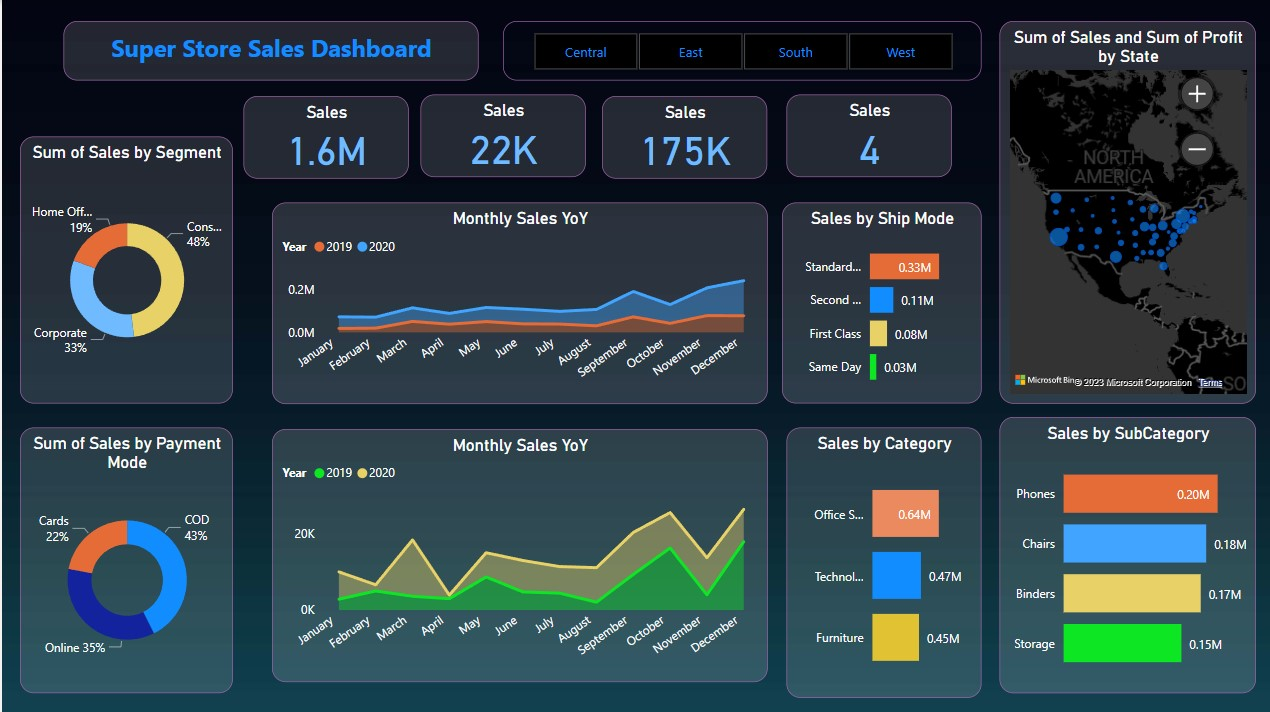

The page's visual inventory and layout, read from the dashboard file:
{"tool":"powerbi","page":{"name":"Page 1","canvas":[1280,720],"ordinal":0},"visuals":[{"type":"clusteredBarChart","title":"Sales by Category","fields":{"Category":["SuperStore_Sales_Dataset.Category"],"Y":["Sum(SuperStore_Sales_Dataset.Sales)"]},"box":[791.3,431.2,196.7,272.3],"z":0},{"type":"clusteredBarChart","title":"Sales by SubCategory","fields":{"Y":["Sum(SuperStore_Sales_Dataset.Sales)"],"Category":["SuperStore_Sales_Dataset.Sub-Category"]},"box":[1006.1,420.6,258.7,278.4],"z":1000},{"type":"clusteredBarChart","title":"Sales by Ship Mode","fields":{"Y":["Sum(SuperStore_Sales_Dataset.Sales)"],"Category":["SuperStore_Sales_Dataset.Ship Mode"]},"box":[786.8,204.3,201.2,202.7],"z":2000},{"type":"stackedAreaChart","title":"Monthly Sales YoY","fields":{"Y":["Sum(SuperStore_Sales_Dataset.Sales)"],"Series":["SuperStore_Sales_Dataset.Order Date.Variation.Date Hierarchy.Year"],"Category":["SuperStore_Sales_Dataset.Order Date.Variation.Date Hierarchy.Month","SuperStore_Sales_Dataset.Order Date.Variation.Date Hierarchy.Day"]},"box":[271.7,205,500,203.3],"z":3000},{"type":"stackedAreaChart","title":"Monthly Sales YoY","fields":{"Series":["SuperStore_Sales_Dataset.Order Date.Variation.Date Hierarchy.Year"],"Category":["SuperStore_Sales_Dataset.Order Date.Variation.Date Hierarchy.Month","SuperStore_Sales_Dataset.Order Date.Variation.Date Hierarchy.Day"],"Y":["Sum(SuperStore_Sales_Dataset.Profit)"]},"box":[271.7,433.3,500,255],"z":4000},{"type":"map","fields":{"Category":["SuperStore_Sales_Dataset.State"],"Size":["Sum(SuperStore_Sales_Dataset.Sales)"]},"box":[1006.1,21.2,258.7,385.8],"z":5000},{"type":"donutChart","fields":{"Category":["SuperStore_Sales_Dataset.Segment"],"Y":["Sum(SuperStore_Sales_Dataset.Sales)"]},"box":[18.2,137.7,214.8,269.3],"z":6000},{"type":"donutChart","fields":{"Y":["Sum(SuperStore_Sales_Dataset.Sales)"],"Category":["SuperStore_Sales_Dataset.Payment Mode"]},"box":[18.2,431.2,214.8,267.8],"z":7000},{"type":"slicer","fields":{"Values":["SuperStore_Sales_Dataset.Region"]},"box":[505.7,21.4,482.9,60],"z":8000},{"type":"textbox","box":[61.7,21.7,418.3,60],"z":9000},{"type":"card","title":"Sales","fields":{"Values":["Sum(SuperStore_Sales_Dataset.Sales)"]},"box":[243.6,96.8,166.4,83.2],"z":10000},{"type":"card","title":"Sales","fields":{"Values":["Sum(SuperStore_Sales_Dataset.Quantity)"]},"box":[422.1,95.3,166.4,83.2],"z":11000},{"type":"card","title":"Sales","fields":{"Values":["Sum(SuperStore_Sales_Dataset.Profit)"]},"box":[605.2,96.8,166.4,83.2],"z":12000},{"type":"card","title":"Sales","fields":{"Values":["Avg(SuperStore_Sales_Dataset.AvgDelivery)"]},"box":[791.3,95.3,166.4,83.2],"z":13000}]}

Visuals, with their boxes in screenshot pixels (x1, y1, x2, y2), scaled from the page's 1280x720 canvas onto the 1270x712 screenshot:
"Sales by Category" clusteredBarChart: crop(785, 426, 980, 696)
"Sales by SubCategory" clusteredBarChart: crop(998, 416, 1255, 691)
"Sales by Ship Mode" clusteredBarChart: crop(781, 202, 980, 402)
"Monthly Sales YoY" stackedAreaChart: crop(270, 203, 766, 404)
"Monthly Sales YoY" stackedAreaChart: crop(270, 428, 766, 681)
map - SuperStore_Sales_Dataset.State x Sum(SuperStore_Sales_Dataset.Sales): crop(998, 21, 1255, 402)
donutChart - SuperStore_Sales_Dataset.Segment x Sum(SuperStore_Sales_Dataset.Sales): crop(18, 136, 231, 402)
donutChart - Sum(SuperStore_Sales_Dataset.Sales) x SuperStore_Sales_Dataset.Payment Mode: crop(18, 426, 231, 691)
slicer - SuperStore_Sales_Dataset.Region: crop(502, 21, 981, 80)
textbox: crop(61, 21, 476, 81)
"Sales" card: crop(242, 96, 407, 178)
"Sales" card: crop(419, 94, 584, 177)
"Sales" card: crop(600, 96, 766, 178)
"Sales" card: crop(785, 94, 950, 177)
